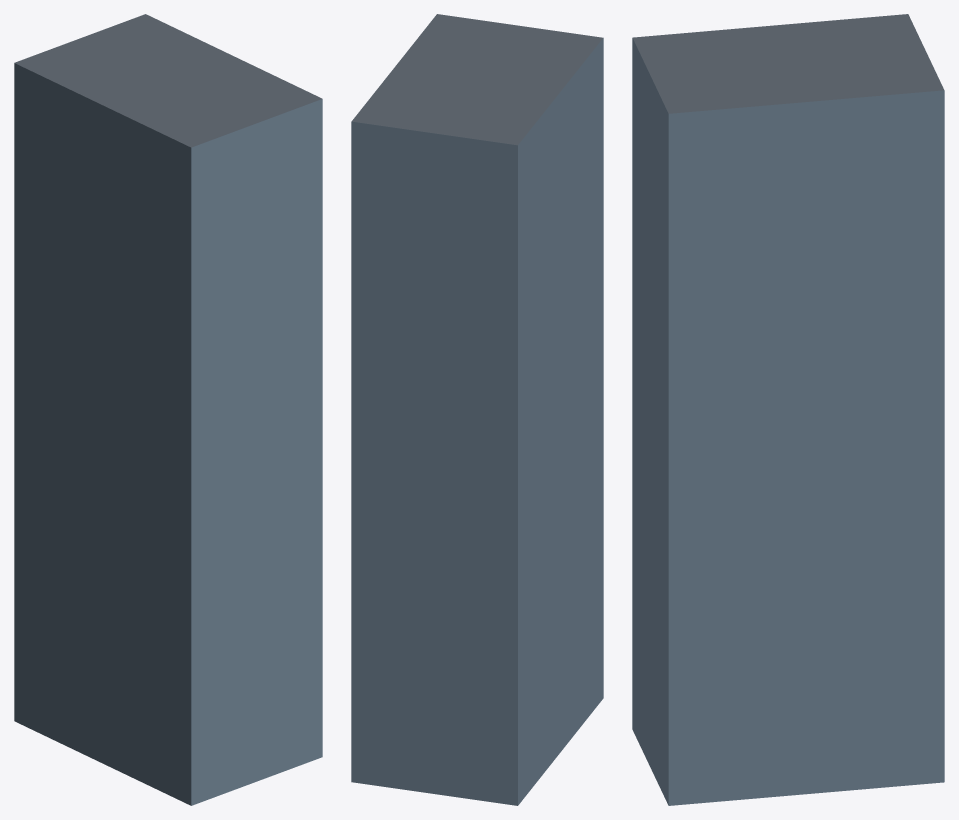
3 renders of one model, left to right at view 1: azimuth 30°, elevation 25°; view 2: azimuth 150°, elevation 25°; view 3: azimuth 270°, elevation 25°, orthographic. The views are drawn at different scales.
Visible parts, largest first — view 1: HP-w378107220; view 2: HP-w378107220; view 3: HP-w378107220.
Part boxes in pixels (bbox=[...]): HP-w378107220: bbox=[14, 14, 322, 805]; HP-w378107220: bbox=[351, 14, 603, 805]; HP-w378107220: bbox=[632, 14, 944, 805].
Bounding box in the file's own units: 35.27 × 114 × 46.58.
